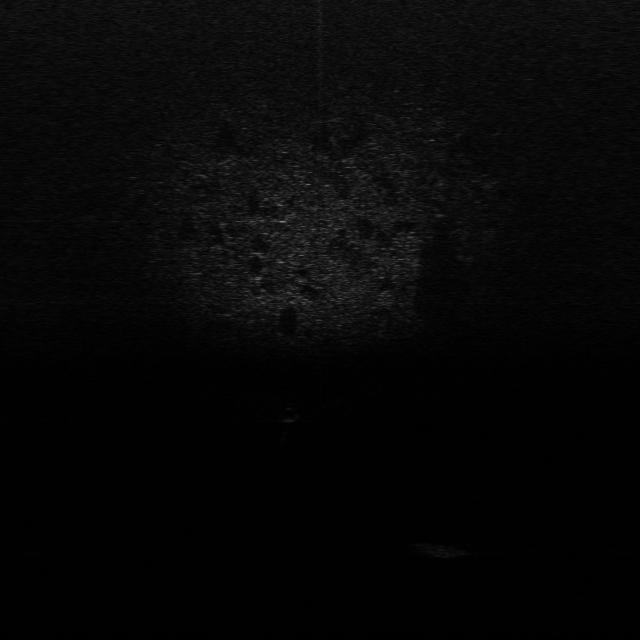ball: (278, 404, 302, 423)
metal bucket: (408, 534, 488, 564)
